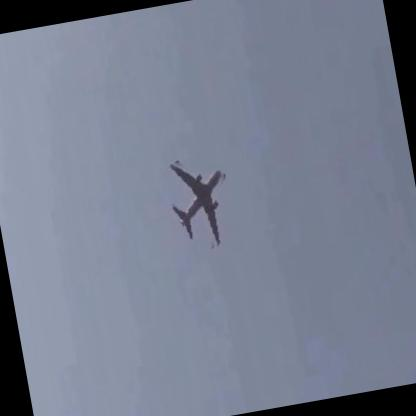plane: (160, 150, 242, 256)
